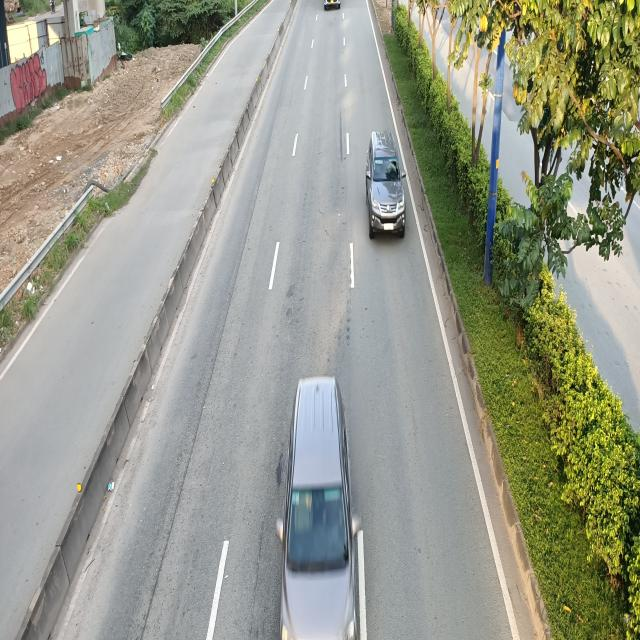car: (364, 133, 406, 241)
